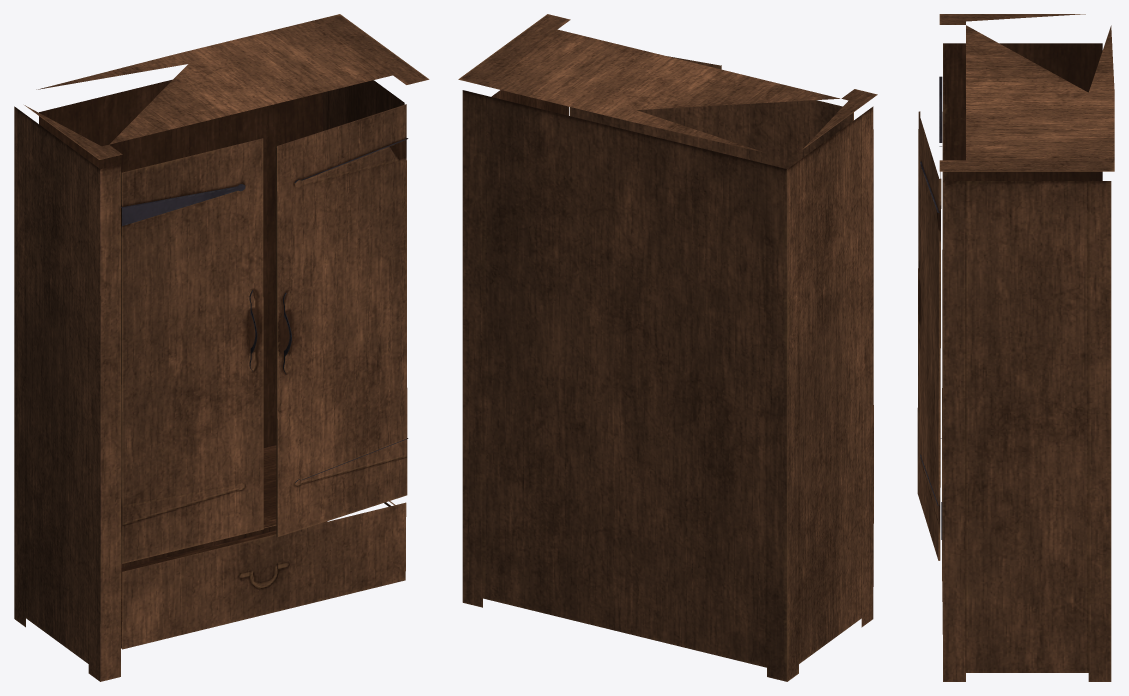
The model's file is medieval_wardrobe.glb.
The picture shows the model from 3 angles, left to right: view 1: azimuth 30°, elevation 25°; view 2: azimuth 150°, elevation 25°; view 3: azimuth 270°, elevation 25°; orthographic projection. The views are drawn at different scales.
Parts seen in each view (by area): view 1: Wardrobe; view 2: Wardrobe; view 3: Wardrobe.
Part boxes in pixels (x1,y1,x2,y2): Wardrobe: (14, 14, 429, 681); Wardrobe: (458, 14, 877, 681); Wardrobe: (917, 14, 1114, 681).
Bounding box in the file's own units: 1.33 × 2.01 × 0.7418.
1 material, 1 textured.
